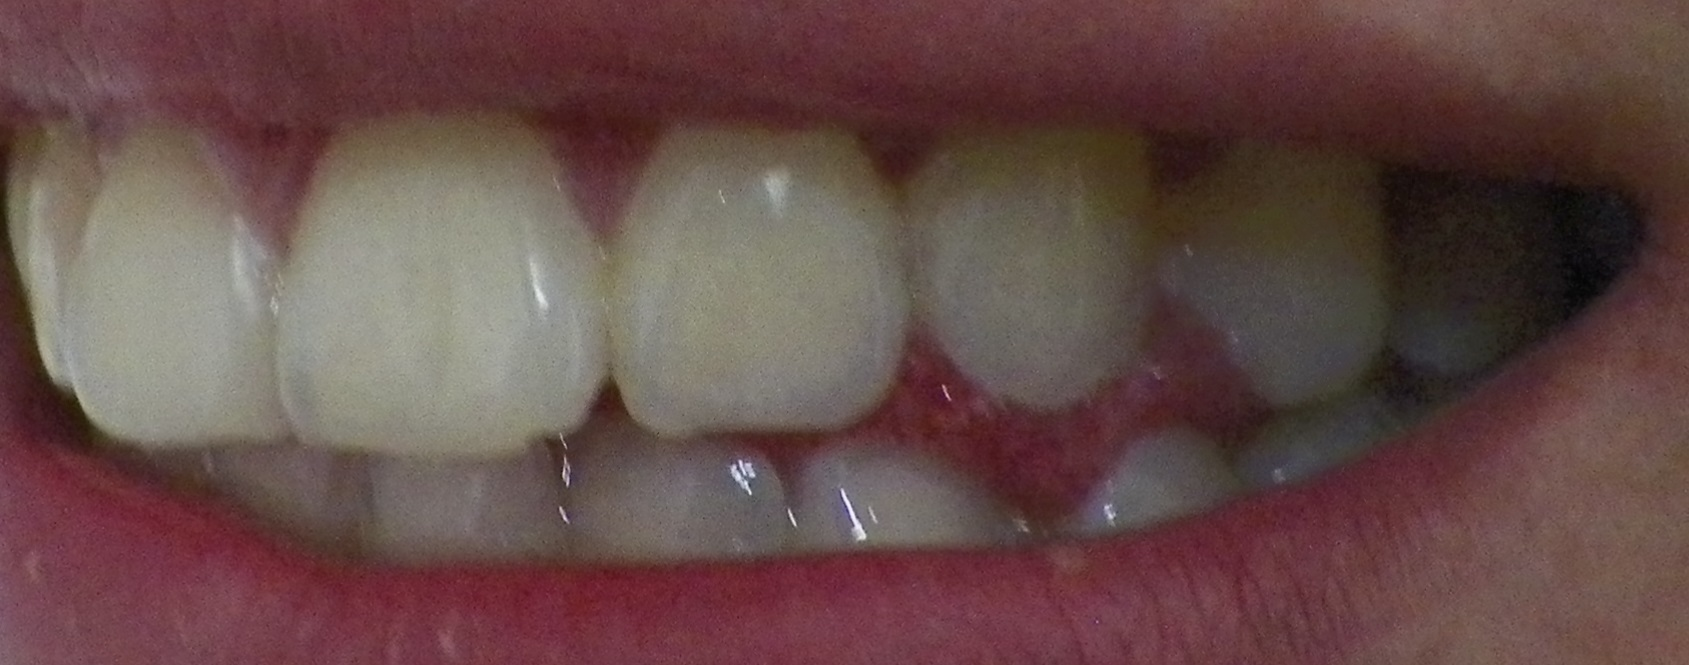boca: (6, 110, 1544, 548)
